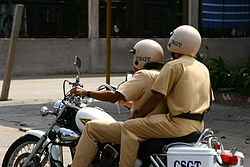police: (60, 25, 218, 165)
